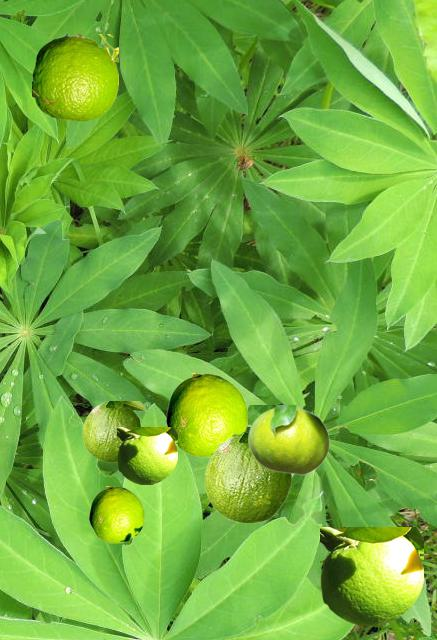dalandan: (320, 527, 422, 624), (204, 433, 292, 522), (32, 34, 117, 120), (166, 373, 247, 456), (248, 405, 329, 474), (82, 401, 145, 461), (117, 427, 176, 483), (89, 486, 143, 542)
